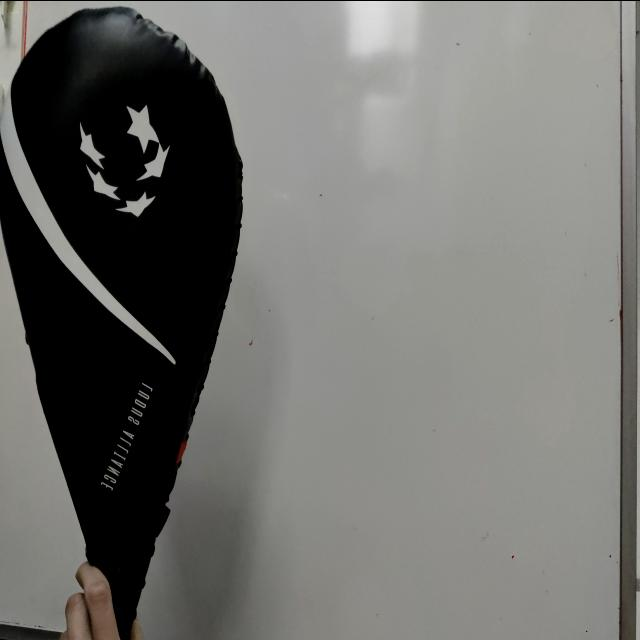paddle: (0, 3, 244, 631)
